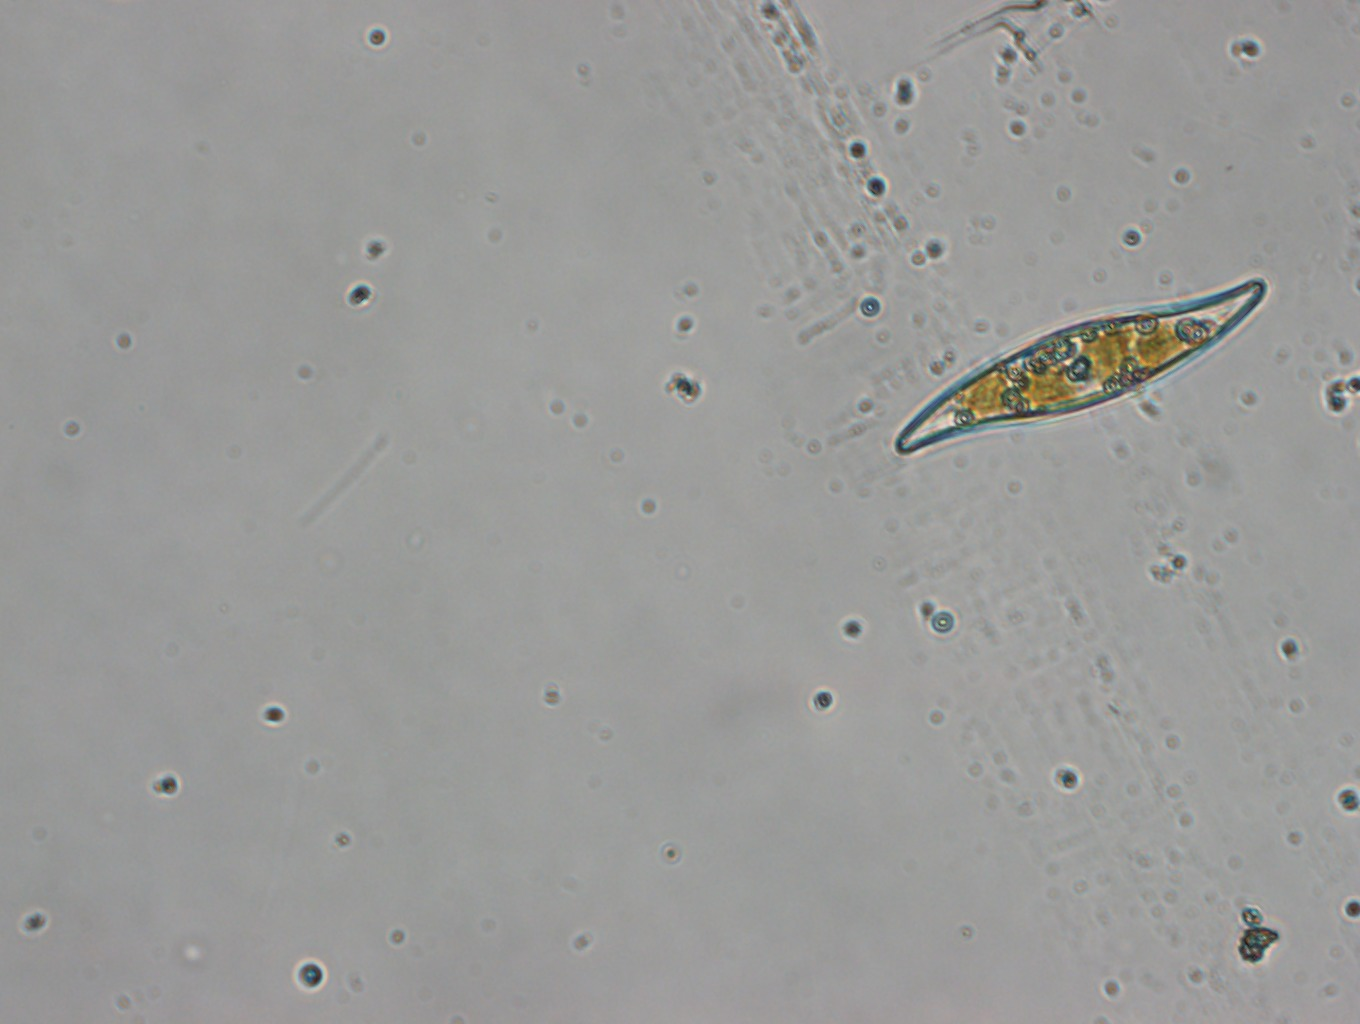pleurosigma pelagicum: (891, 275, 1268, 459)
